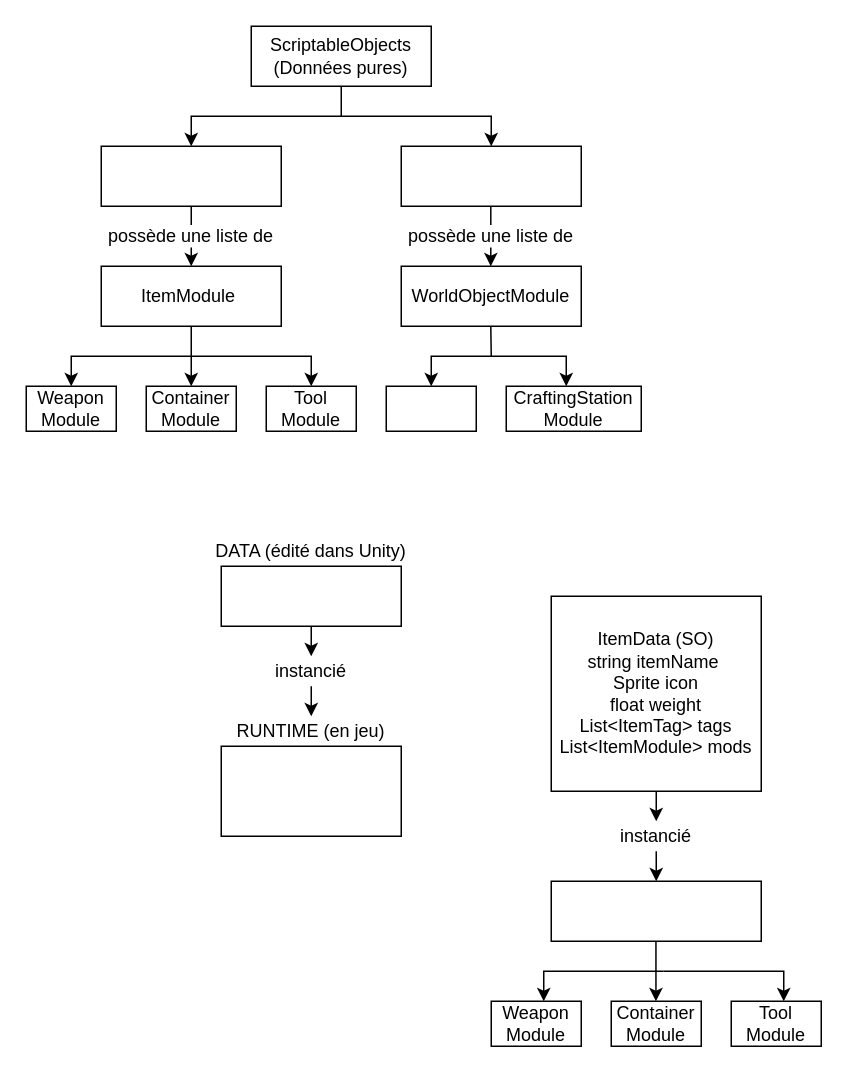
Image size: 848x1073. Some labels were removed from this diagram. Here are the shapes that lost their labels. From the top down, the centre of each, then its label:
the point at 190,175: ItemData (objets portables)
the point at 490,175: WorldObjectData (objets du monde)
the point at 430,408: Storage Module
the point at 310,595: ItemData (SO)
the point at 310,790: ItemInstance - currentDurability - currentAmmo - runtime state
the point at 655,910: ItemModule (abstract)
